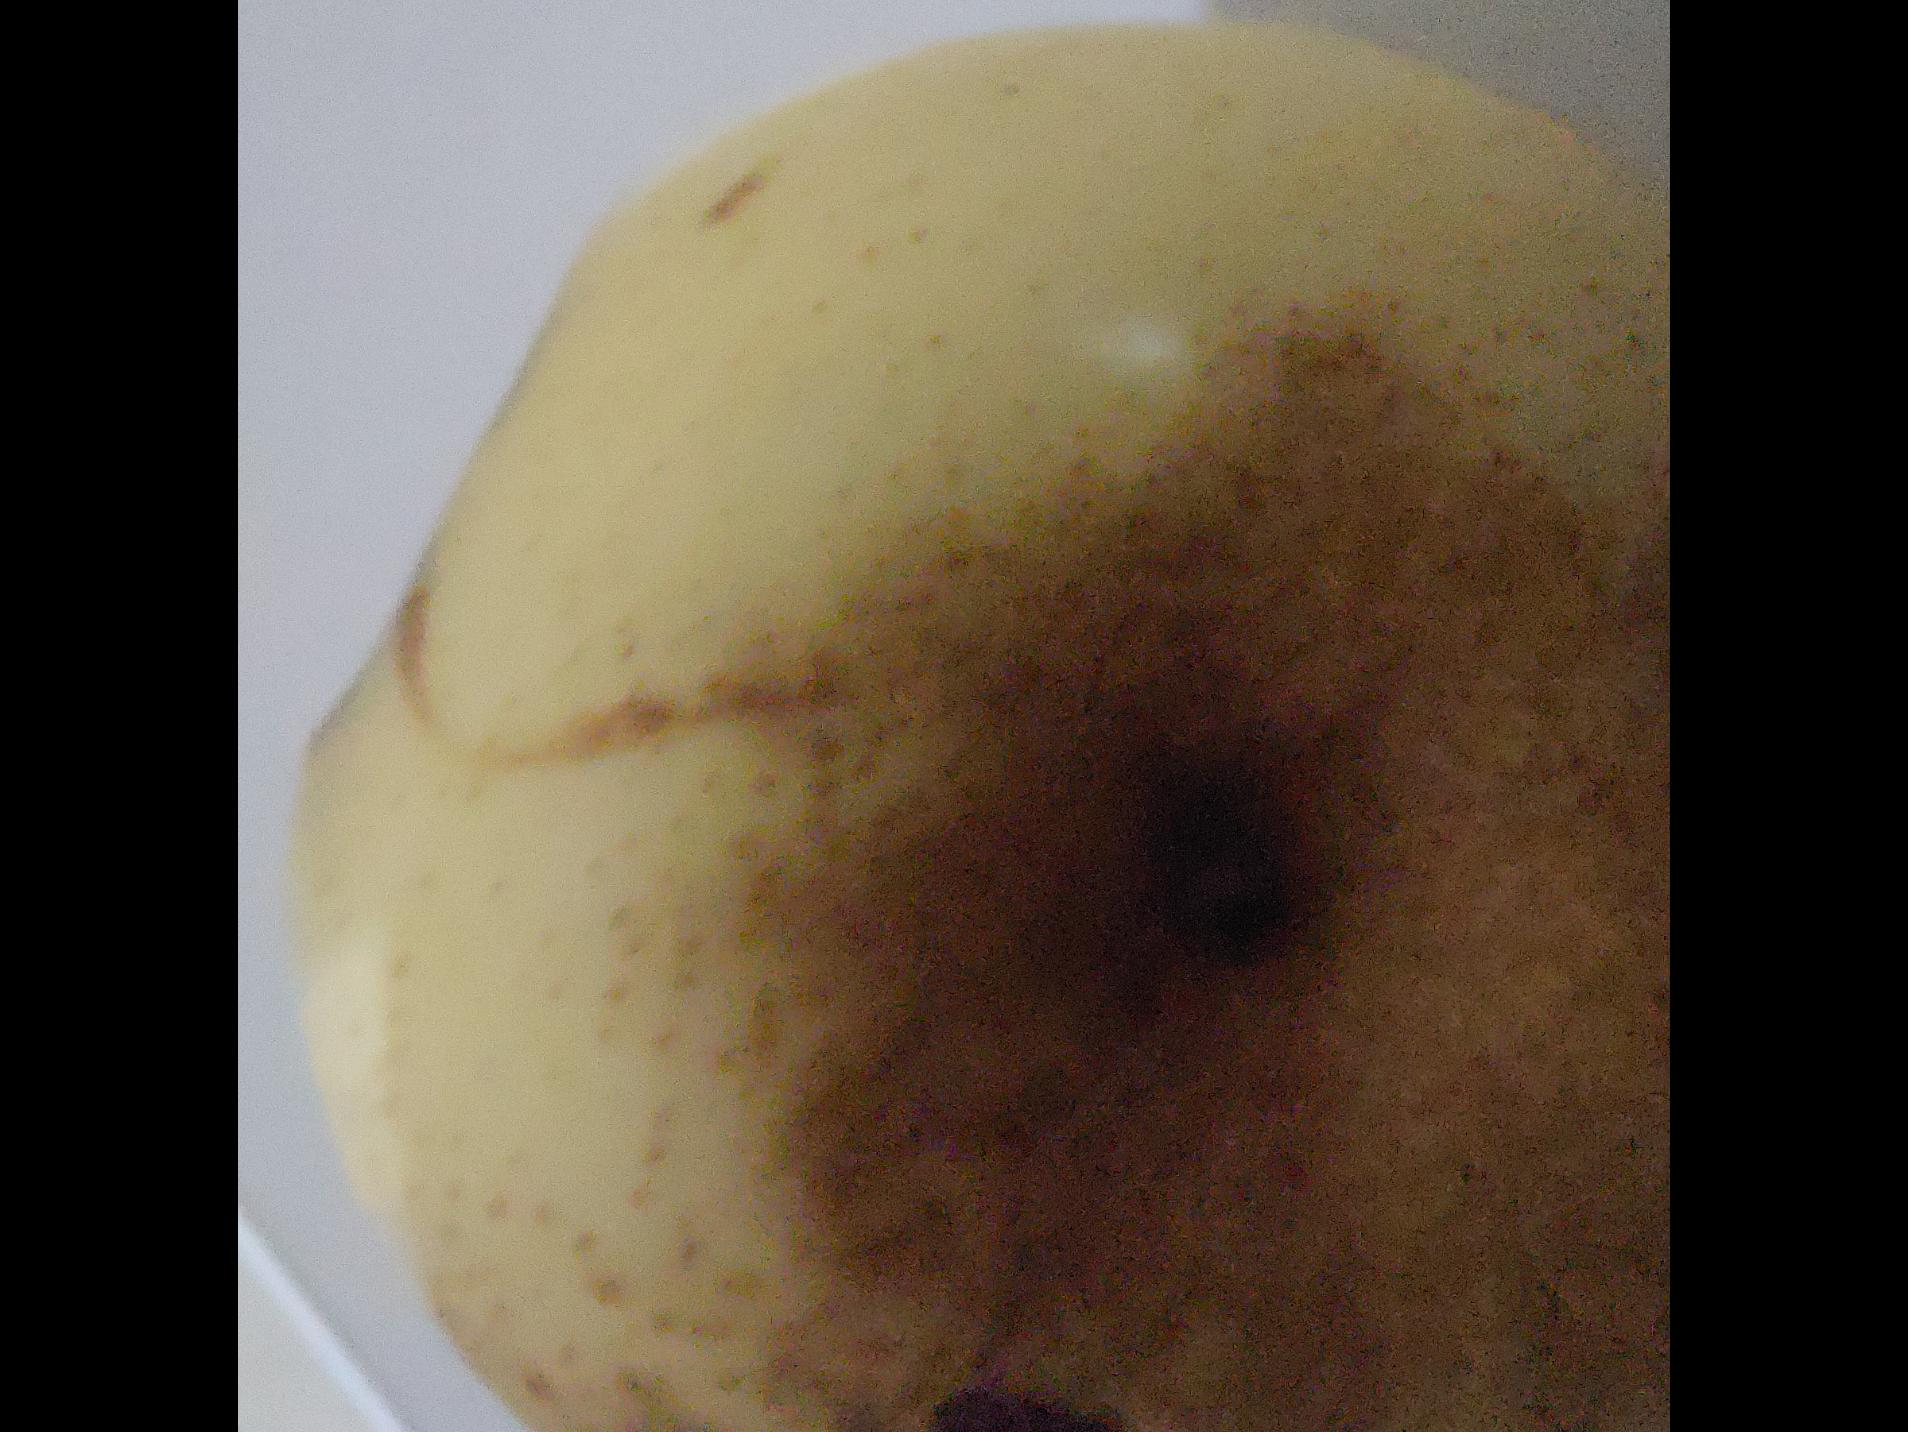Bad Pear: (277, 20, 1670, 1432)
